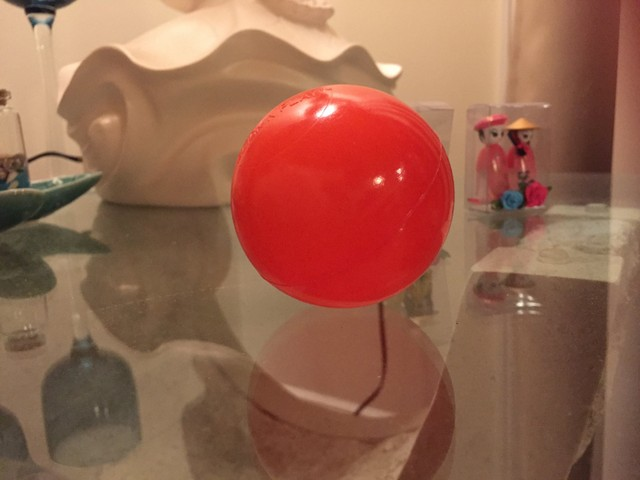Ball: (230, 83, 455, 302)
